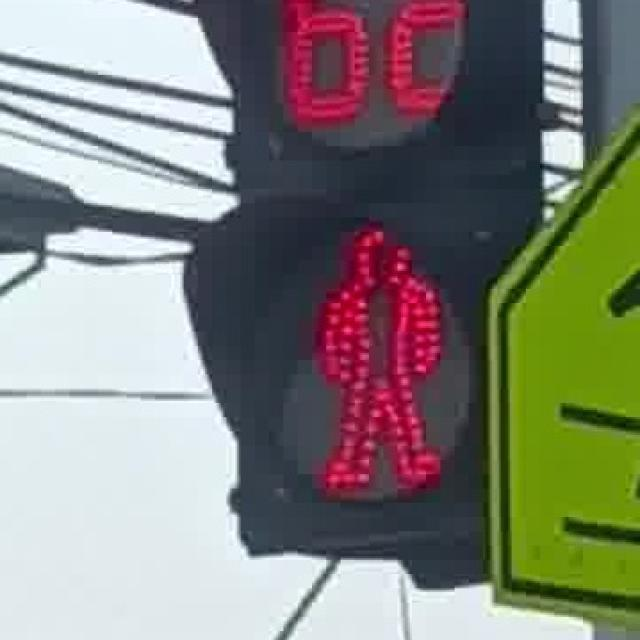red-crossing: (287, 219, 451, 492)
